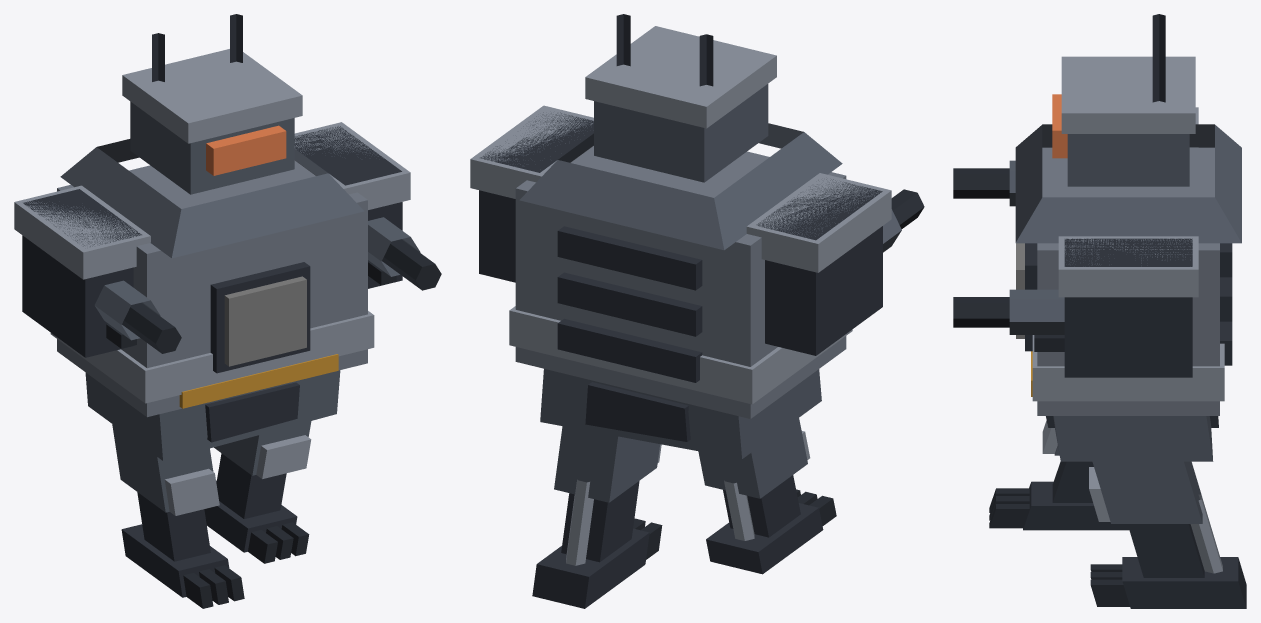
The model's file is heavy-walk-5.obj.
3 views of the same model, side by side, from view 1: azimuth 30°, elevation 25°; view 2: azimuth 150°, elevation 25°; view 3: azimuth 270°, elevation 25° (orthographic). The views are drawn at different scales.
Parts seen in each view (by area): view 1: heavy-walk-5; view 2: heavy-walk-5; view 3: heavy-walk-5.
Part boxes in pixels (left/top/right/bottom): heavy-walk-5: left=14, top=14, right=441, bottom=608; heavy-walk-5: left=470, top=14, right=924, bottom=608; heavy-walk-5: left=953, top=14, right=1246, bottom=608.
Bounding box in the file's own units: 2.52 × 3.85 × 1.92.
